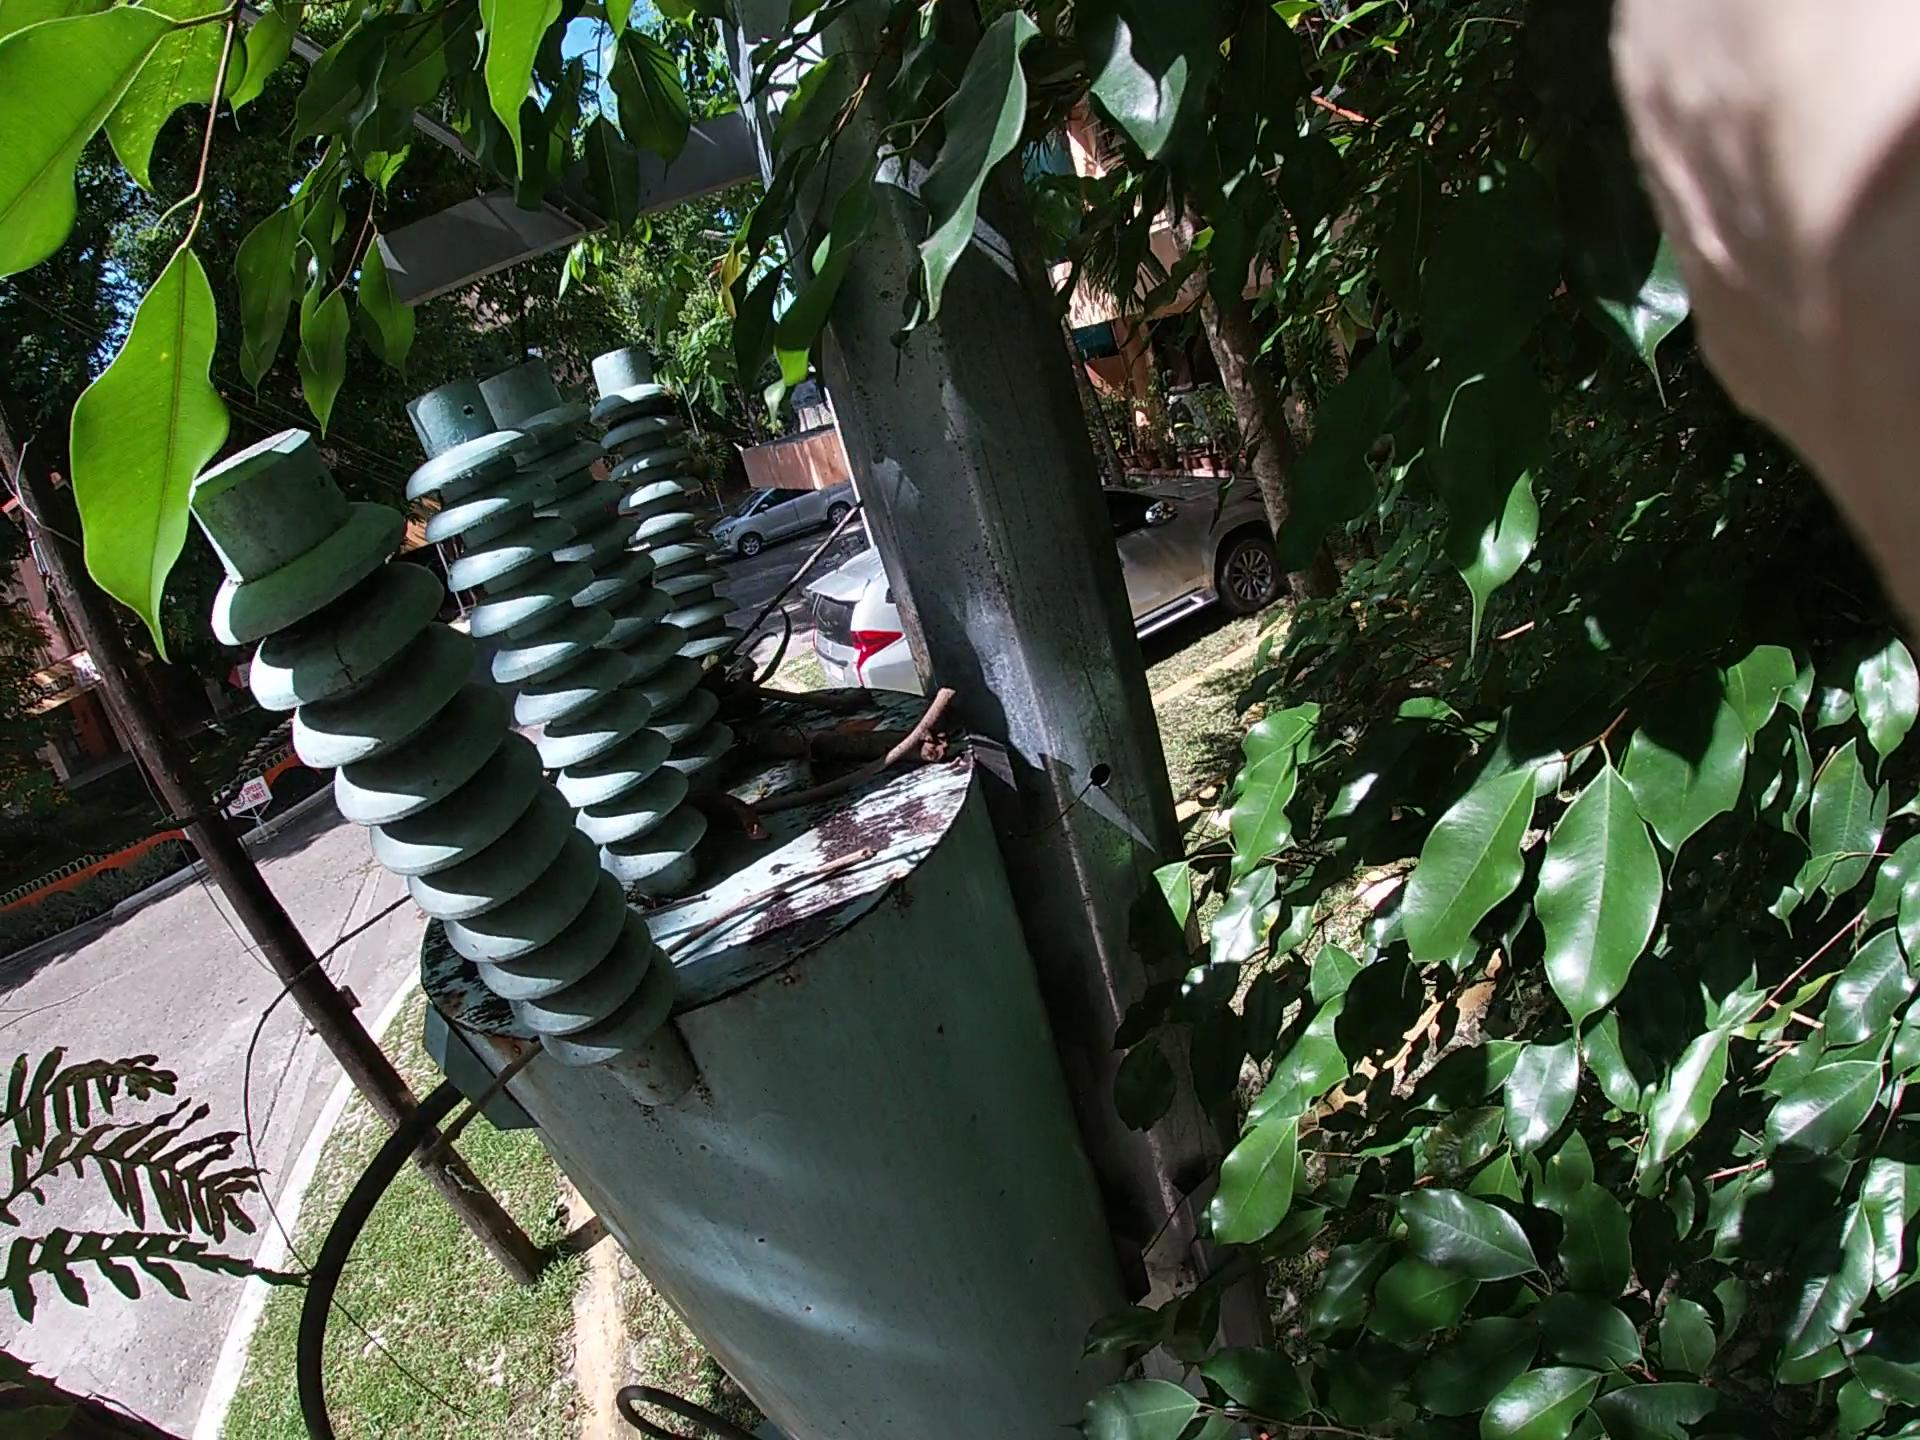leaf: (788, 678, 906, 753)
mahogany fruit: (650, 750, 884, 861)
tree branch: (194, 389, 883, 1186), (452, 835, 952, 1147), (803, 656, 958, 824)
